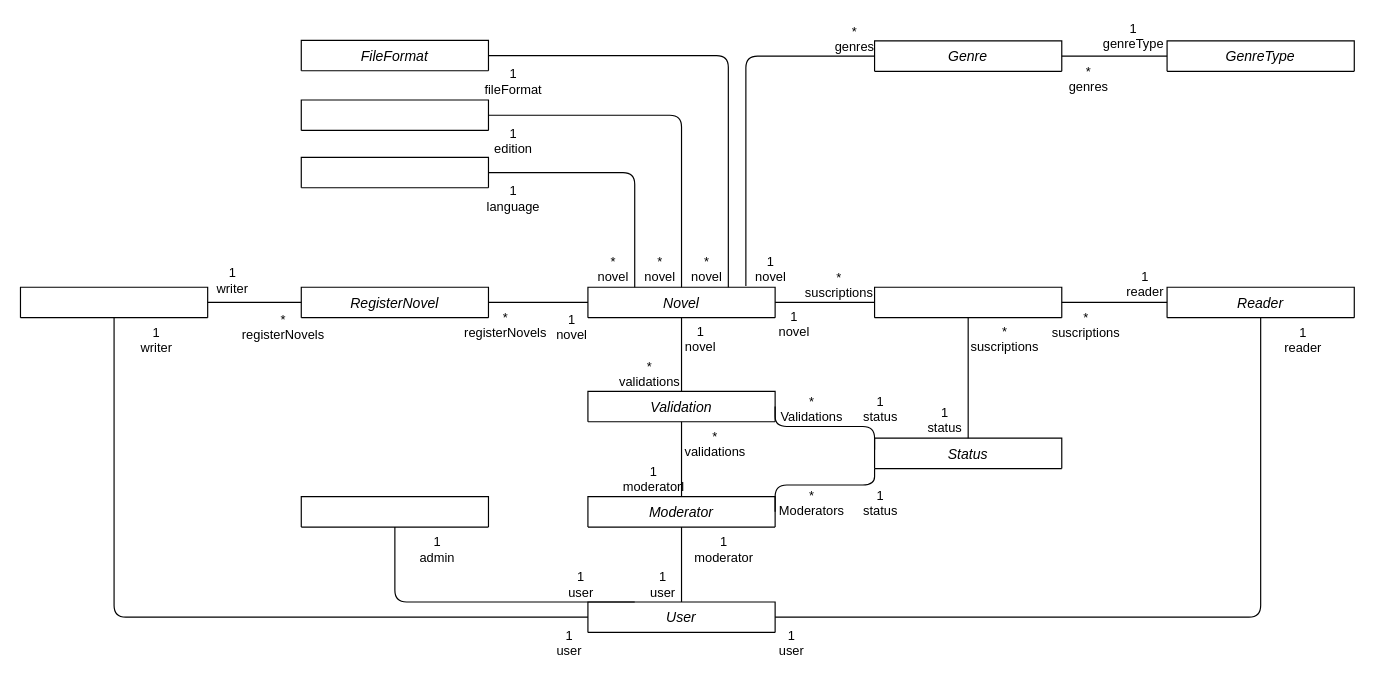
This 1375x681 diagram has some shape labels left out. Here are the shapes that lost their labels. From the top down, the centre of each, then its label:
At (394,114): "Edition".
At (394,172): "Language".
At (113,302): "Writer".
At (967,302): "Subscription".
At (394,511): "Admin".
